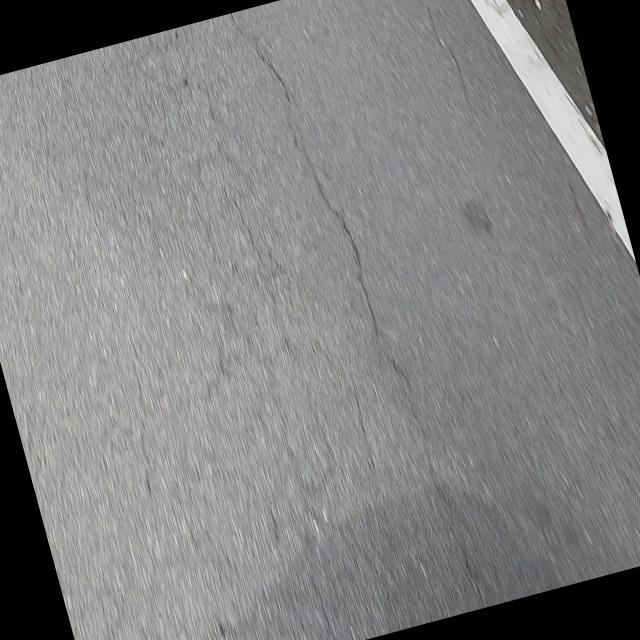Retak-Memanjang: (225, 13, 481, 605)
